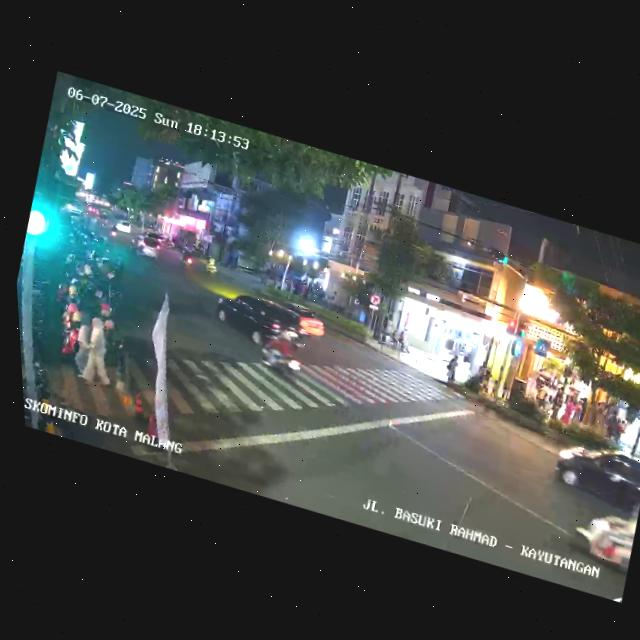car: (208, 283, 322, 366), (543, 432, 640, 522), (271, 299, 332, 342), (127, 228, 167, 263)
motorcycle: (565, 488, 640, 578), (247, 309, 313, 386), (199, 253, 223, 279), (178, 247, 197, 271)
person: (76, 311, 124, 388), (64, 307, 101, 376), (545, 385, 566, 424), (442, 351, 462, 386), (559, 393, 579, 428), (533, 380, 553, 414), (608, 418, 627, 450), (572, 397, 589, 426), (635, 428, 640, 456)
